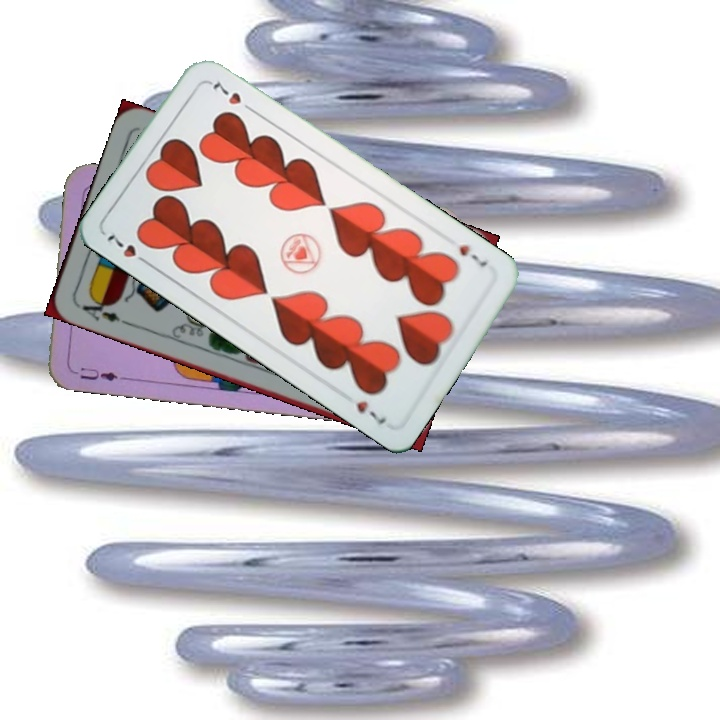EA: (73, 293, 131, 328)
EU: (67, 363, 127, 384)
H7: (102, 228, 153, 268), (448, 235, 491, 269)
